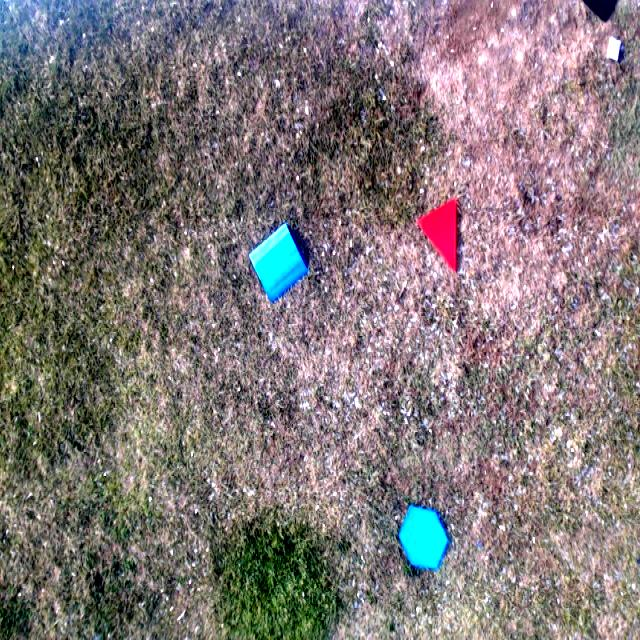blue_hexagon: (399, 503, 447, 570)
blue_square: (250, 225, 308, 302)
red_triangle: (419, 197, 457, 272)
